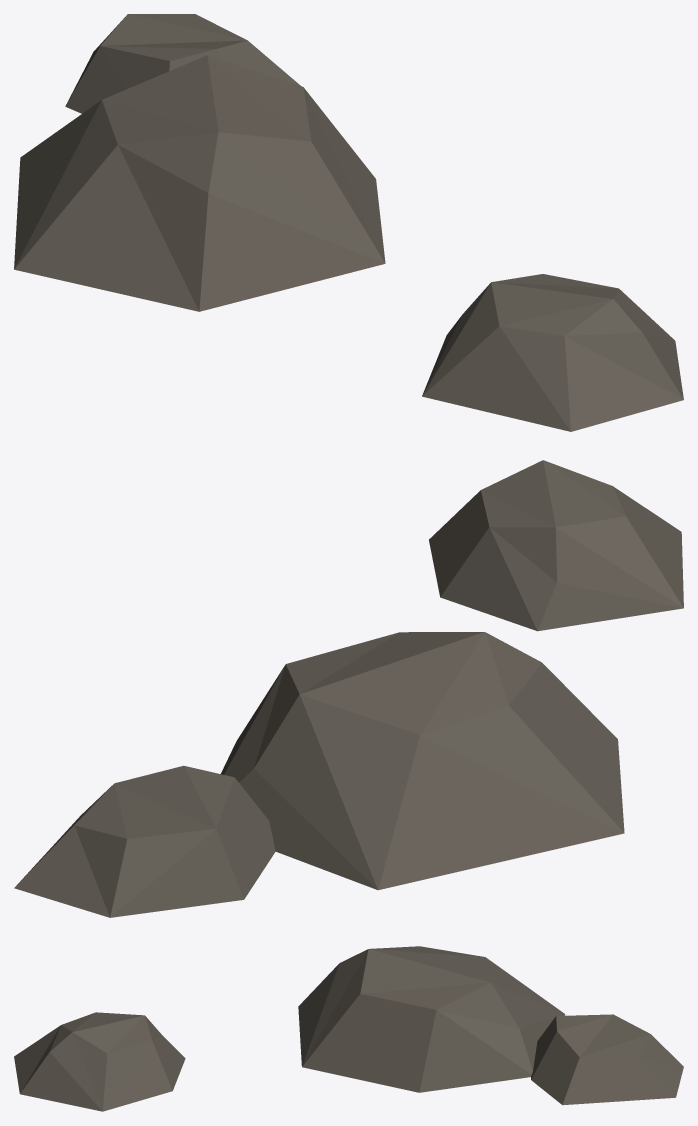
The model's file is SM_Env_Rocks_04.fbx.
3 renders of one model, top to bottom at view 1: azimuth 30°, elevation 25°; view 2: azimuth 150°, elevation 25°; view 3: azimuth 270°, elevation 25°, orthographic. The views are drawn at different scales.
Parts seen in each view (by area): view 1: SM_Env_Rocks_04; view 2: SM_Env_Rocks_04; view 3: SM_Env_Rocks_04.
Boxes of the visible parts, <box> form: SM_Env_Rocks_04: <box>14,14,683,431</box>; SM_Env_Rocks_04: <box>14,460,683,917</box>; SM_Env_Rocks_04: <box>14,946,683,1111</box>.
Size of the model in its own units: 71.41 by 19.82 by 149.
